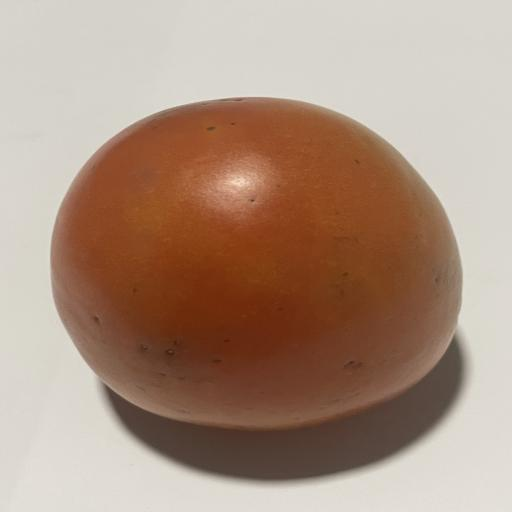unripe: (51, 97, 461, 429)
